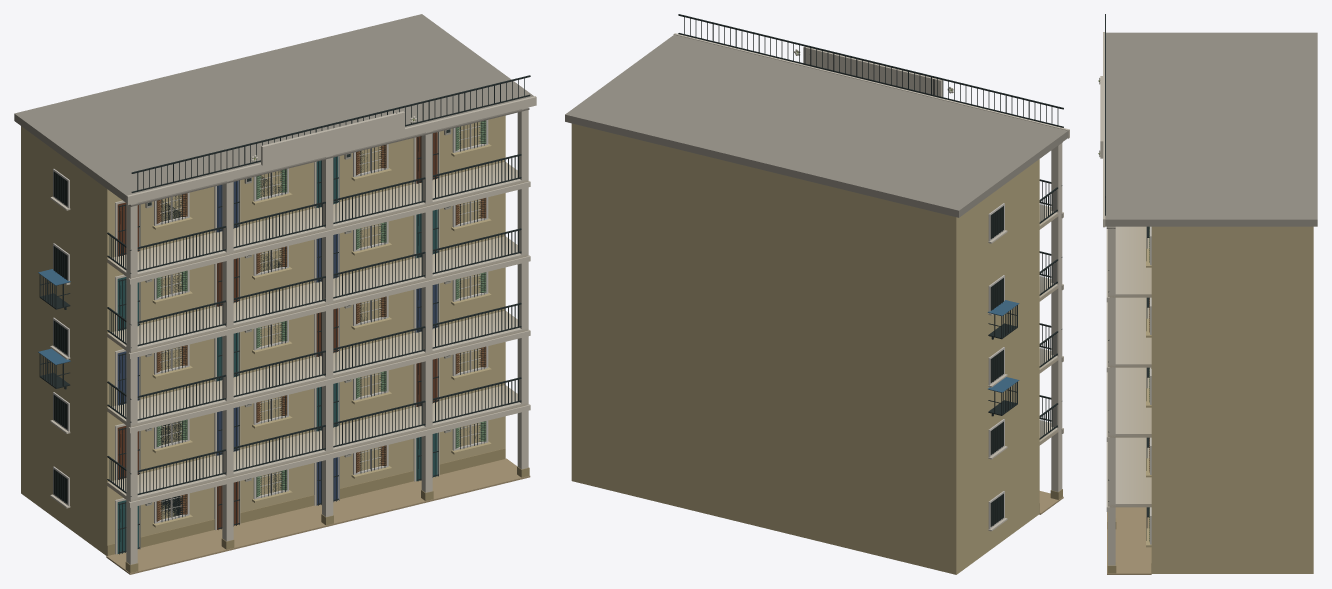
File: hoa_sua_day.glb
The picture shows the model from 3 angles, left to right: view 1: azimuth 30°, elevation 25°; view 2: azimuth 150°, elevation 25°; view 3: azimuth 270°, elevation 25°; orthographic projection. The views are drawn at different scales.
Parts seen in each view (by area): view 1: hoa_sua_day; view 2: hoa_sua_day; view 3: hoa_sua_day.
Part boxes in pixels (x1,y1,x2,y2): hoa_sua_day: (14, 14, 536, 574); hoa_sua_day: (565, 14, 1069, 574); hoa_sua_day: (1098, 14, 1317, 574).
Bounding box in the file's own units: 17.66 × 16.23 × 8.52.
